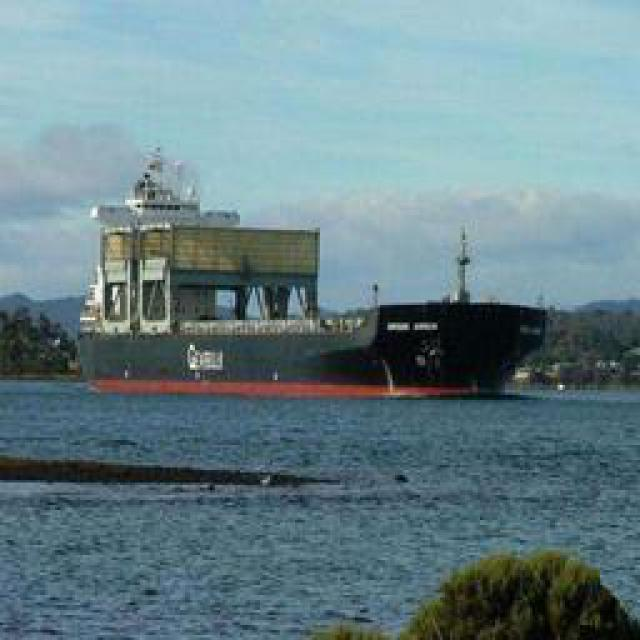Ship: (79, 145, 359, 398)
